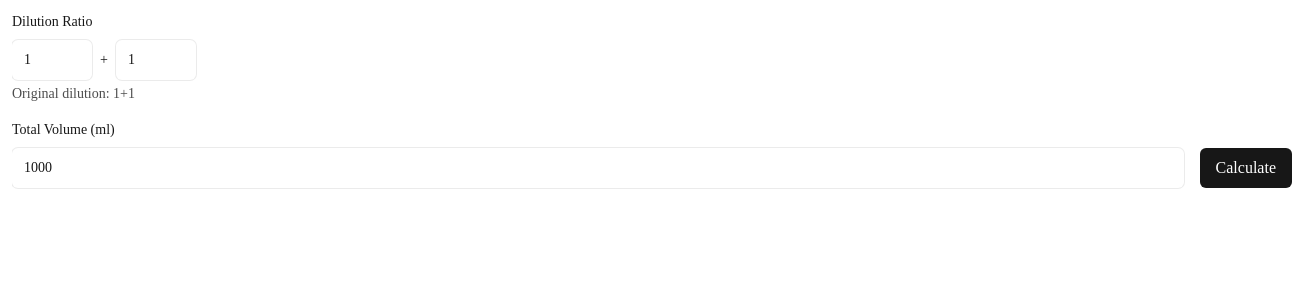
Test: VolumeMixer › calculates 1+1 dilution correctly (50/50)
What coordinates should you click on to do the following:
click the button "Calculate"
I would click on:
 (1246, 168)
Its box is [1200, 148, 1292, 188].
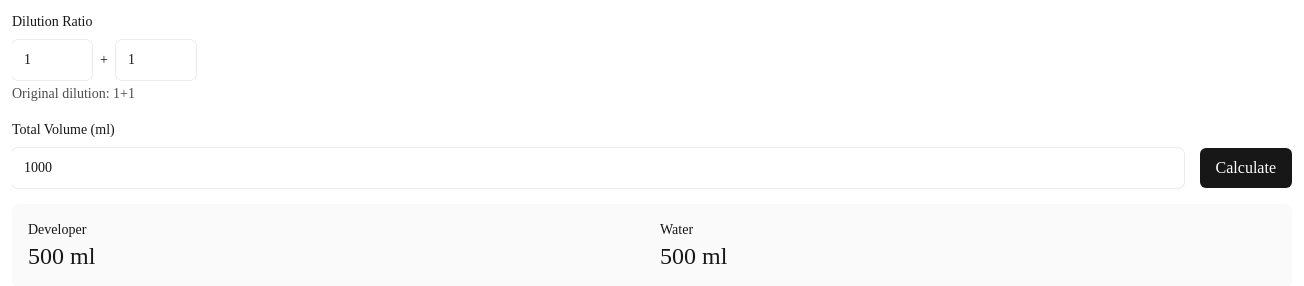
Now the text "500 ml" is shown 2 times, box [28, 243, 95, 269]; [660, 243, 727, 269]
